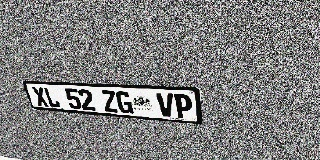plate: (22, 81, 202, 124)
